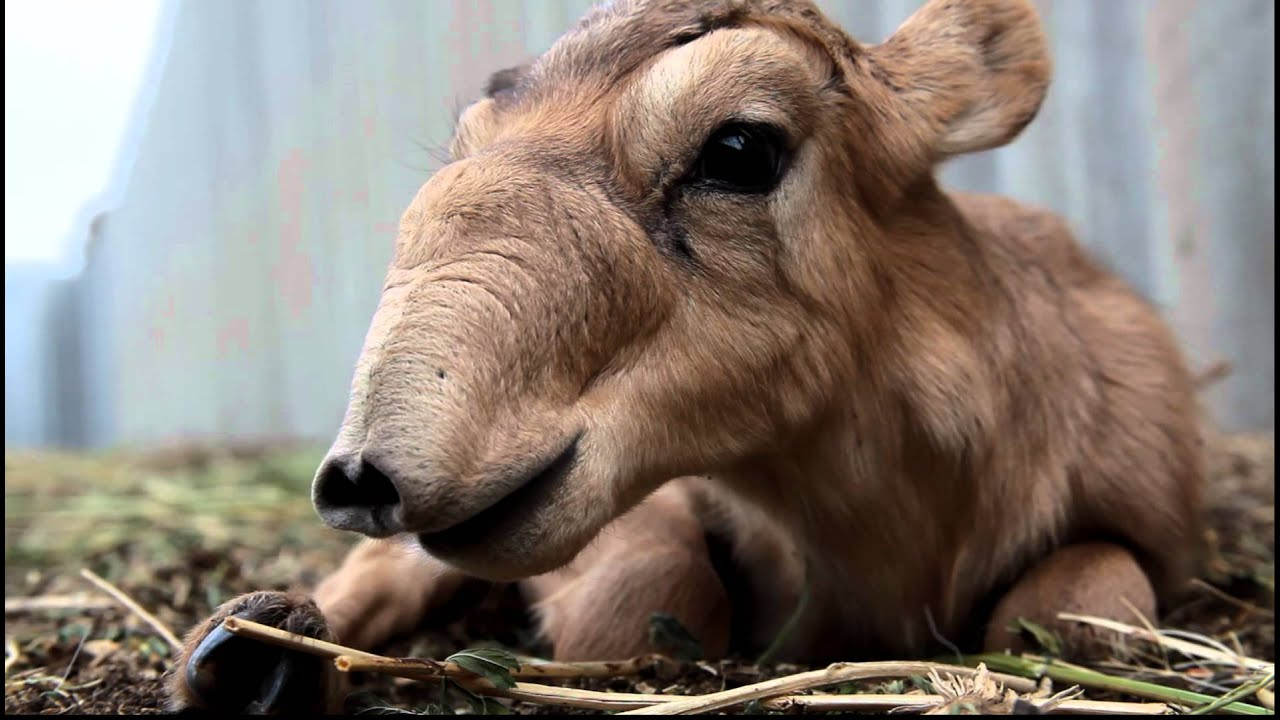saiga: (162, 7, 1223, 679)
